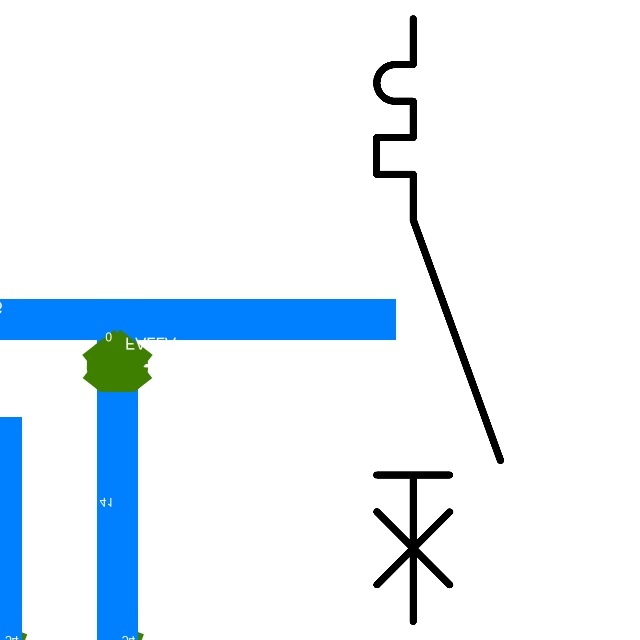interruptor_termomagnetico: (361, 3, 516, 636)
